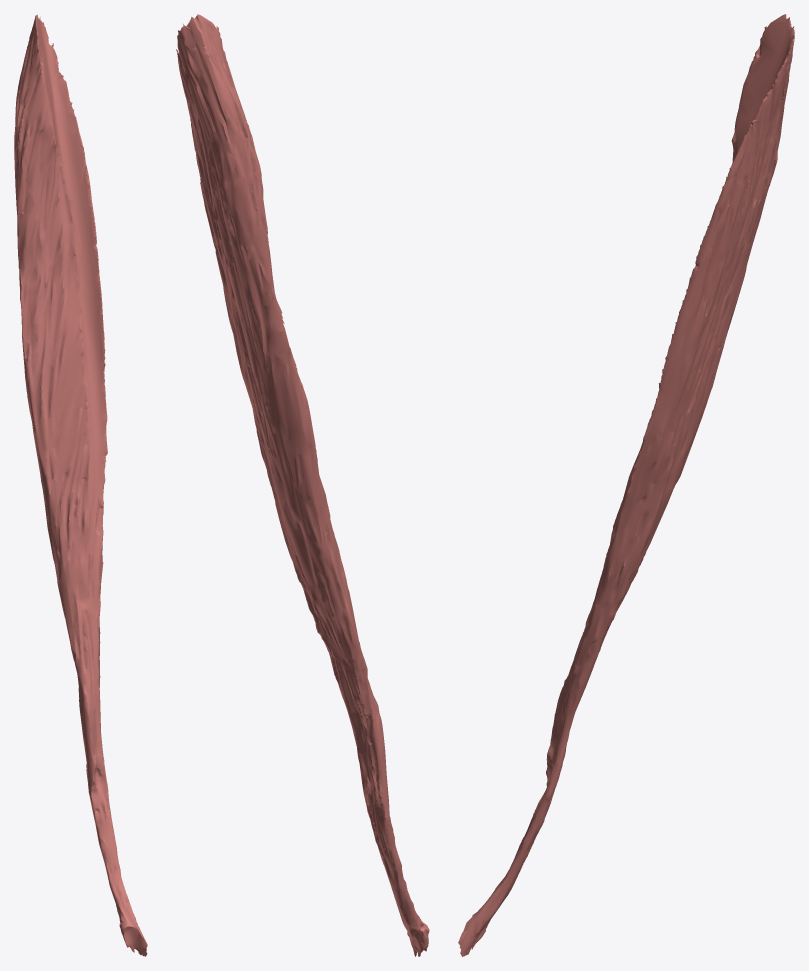
The picture shows the model from 3 angles, left to right: view 1: azimuth 30°, elevation 25°; view 2: azimuth 150°, elevation 25°; view 3: azimuth 270°, elevation 25°; orthographic projection. The views are drawn at different scales.
Visible parts, largest first — view 1: BP47; view 2: BP47; view 3: BP47.
Part boxes in pixels (x1,y1,x2,y2): BP47: (14, 14, 147, 956); BP47: (176, 14, 429, 956); BP47: (458, 14, 794, 956).
Bounding box in the file's own units: 0.017 × 0.1831 × 0.0582.
